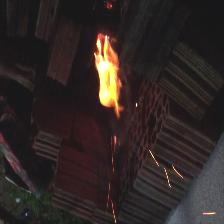fire: (77, 34, 143, 206)
